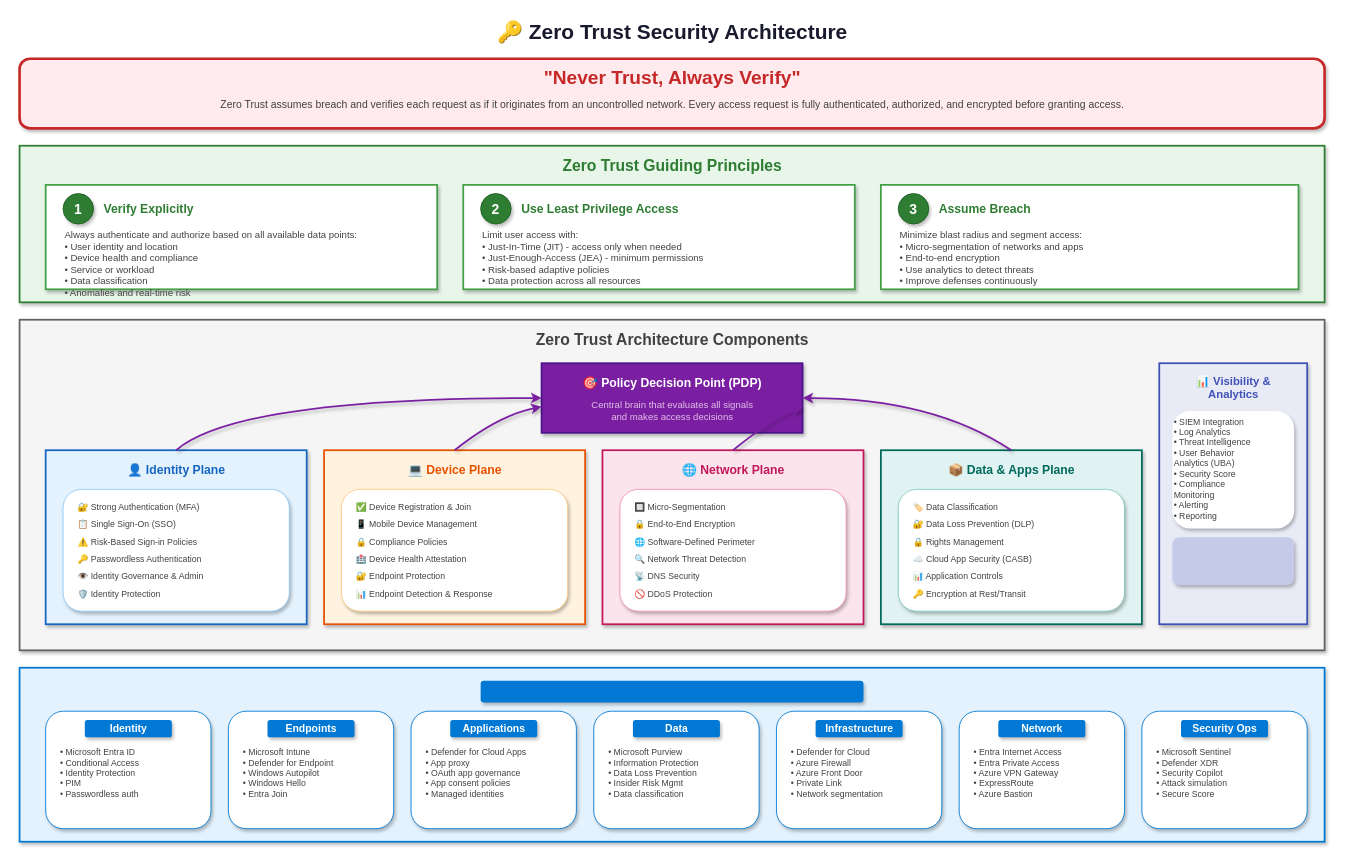
The diagram is 1346 pixels wide and 863 high, and some of its shapes have lost their labels. Here are the shapes that lost their labels. From the top down, the centre of each, then its label:
At pixel 1233 562: "Tools: Azure Sentinel Defender XDR Security Center".
At pixel 672 692: "Microsoft Zero Trust Implementation".
